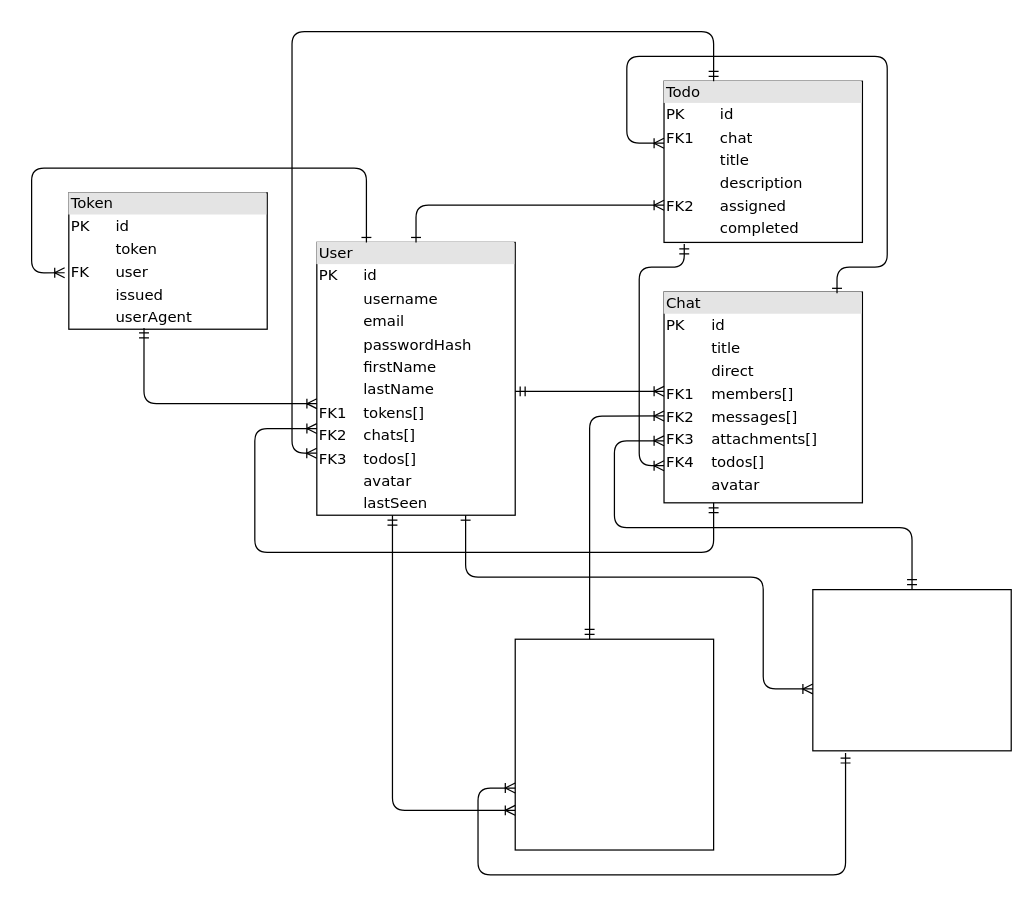
Some shapes in this 1033 by 908 pixel diagram are drawn without their labels. Here are the shapes that lost their labels. From the top down, the centre of each, then its label:
At pixel 911 669: "File PK id title type FK owner uploaded body".
At pixel 614 744: "Message PK id FK1 chat date FK2 sender type FK3 attachments[] FK4 readBy[] text".
